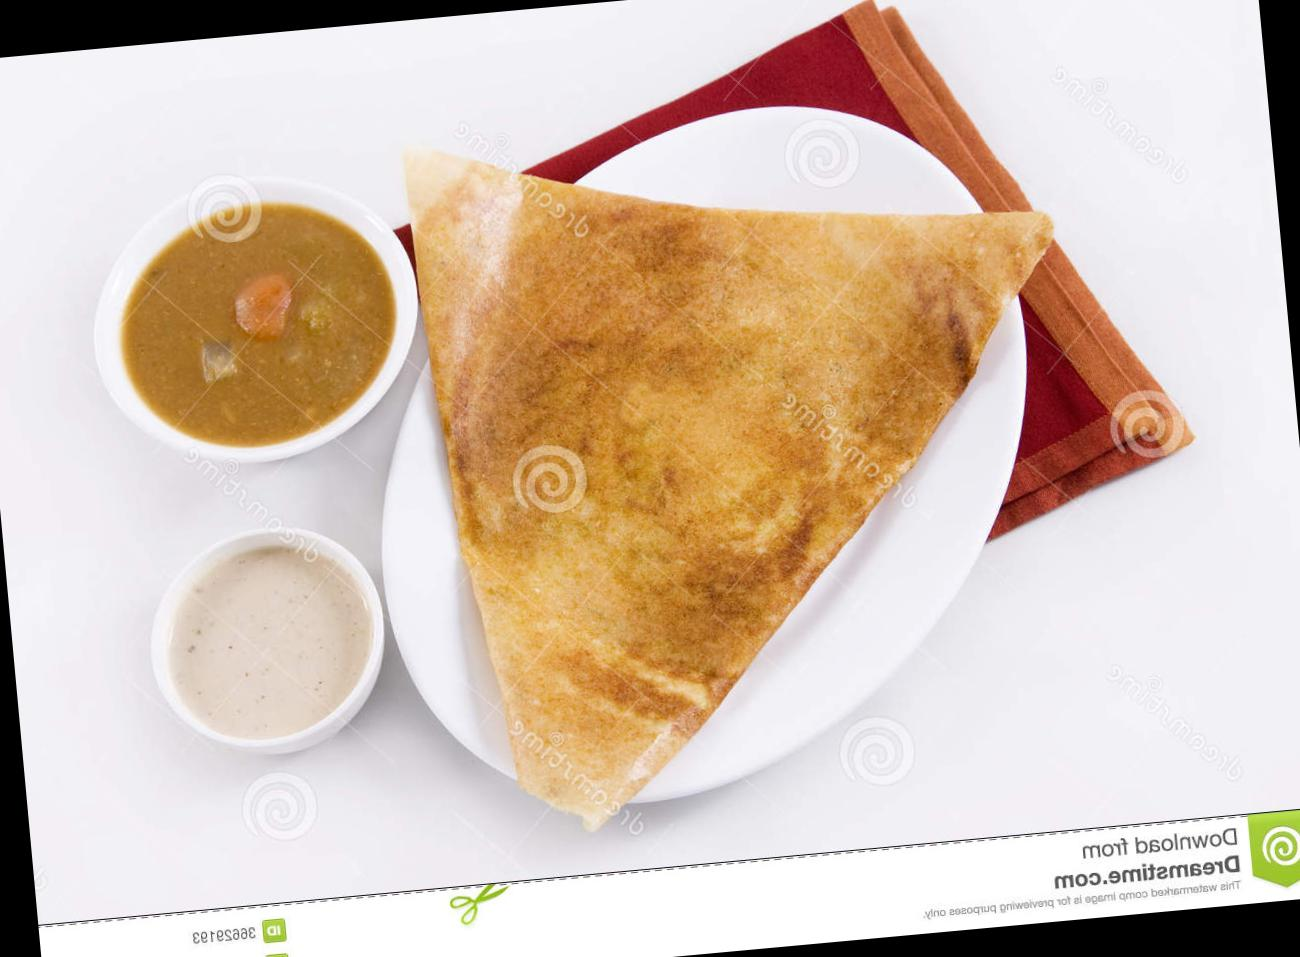dosa: (404, 153, 1056, 831)
